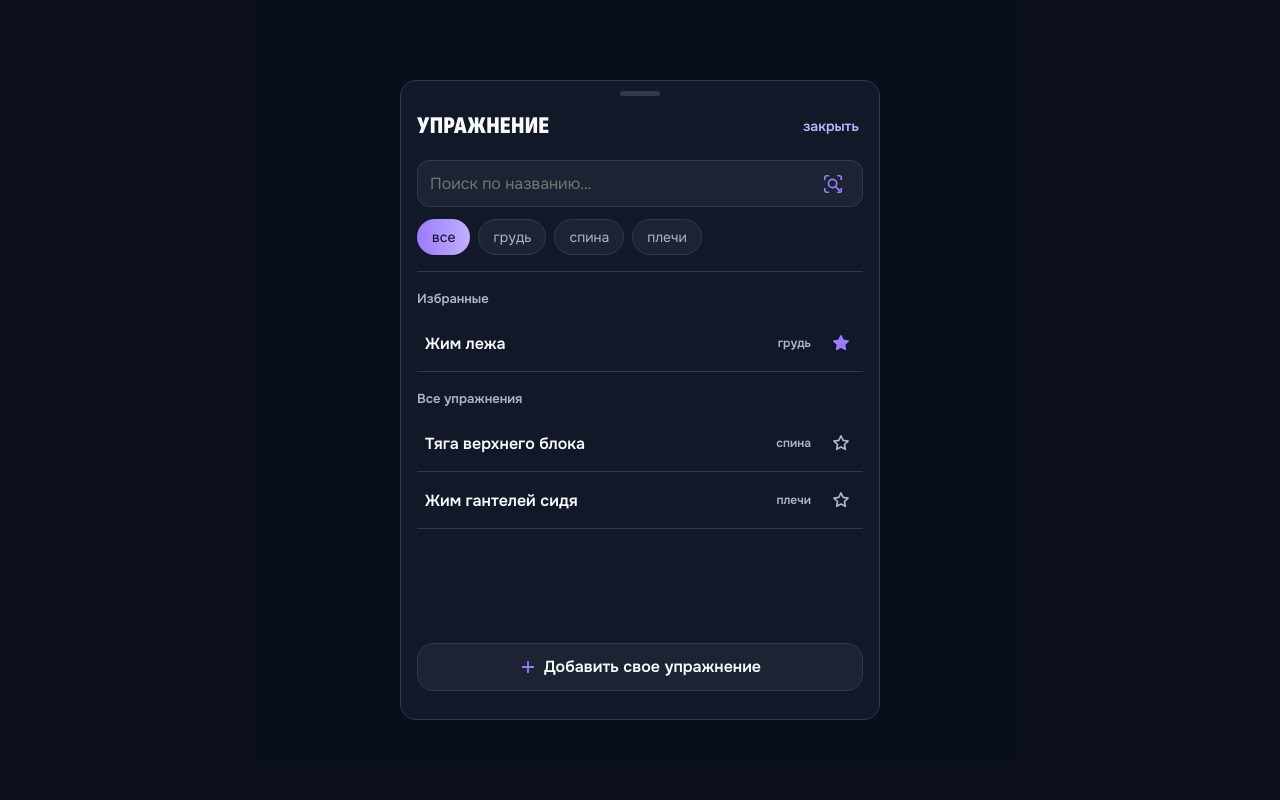
Test case: ExercisePicker — ⭐ избранные (v6.5.0) › при поиске блок избранного прячется, звезды в результатах остаются
Type "жим" into the field with placeholder "Поиск по названию…".
click(640, 184); type("жим")  # box [417,160,863,207]
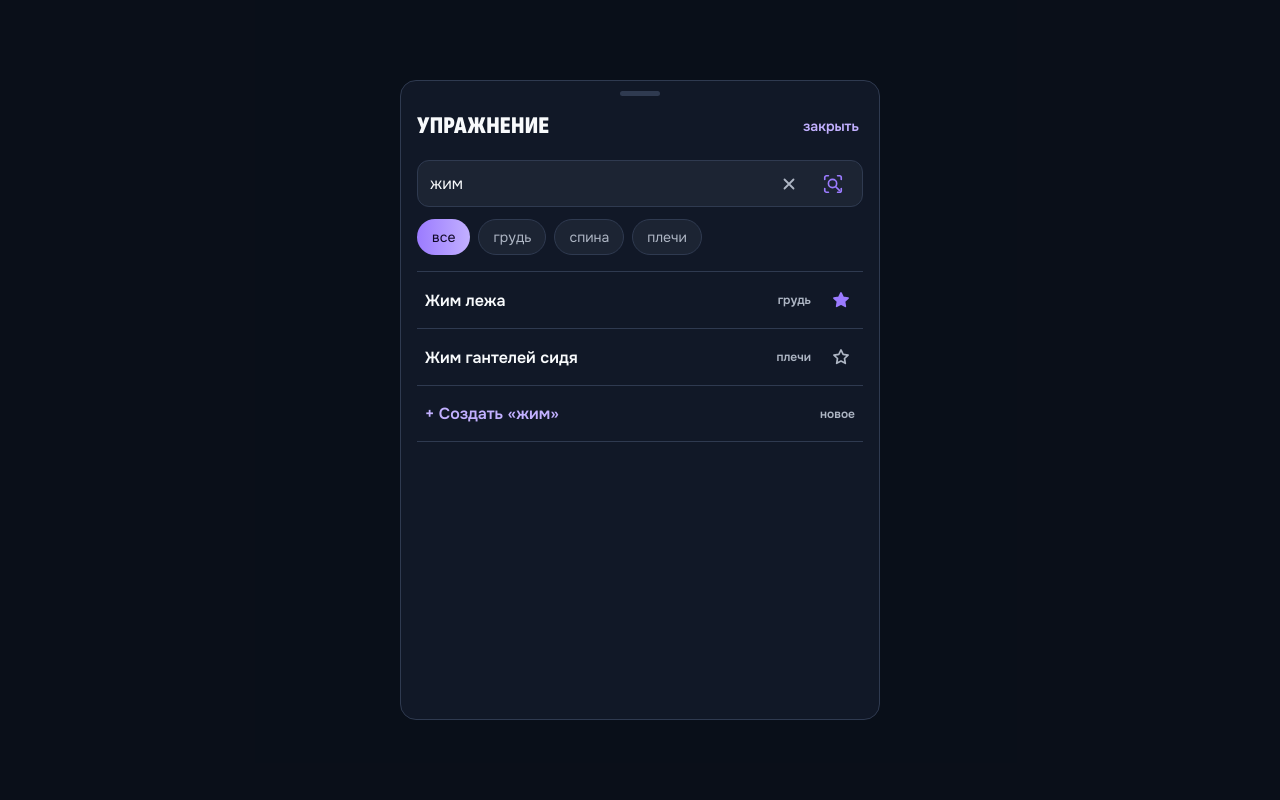
Expected: the text "Жим гантелей сидя" is shown, [425,346,578,368]
Now the text "Избранные" is gone
